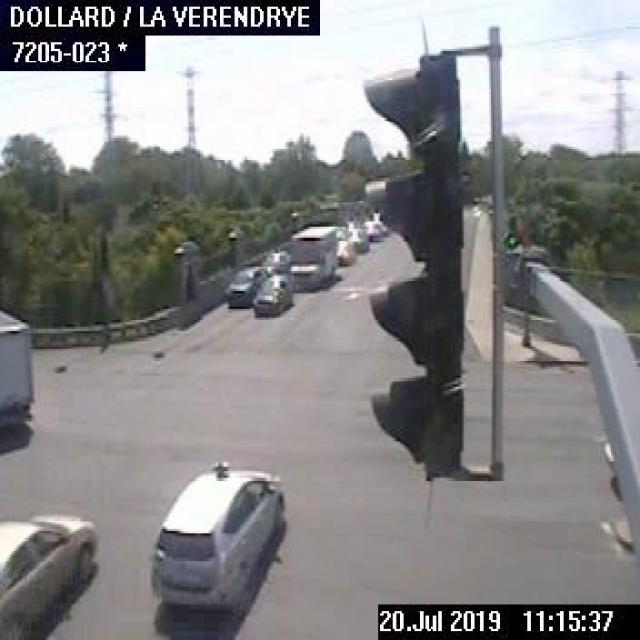vehicle: (149, 460, 287, 611), (0, 511, 96, 637), (0, 307, 33, 429), (289, 223, 336, 292), (250, 274, 293, 316), (224, 265, 263, 308), (261, 247, 290, 274), (337, 236, 356, 266)
